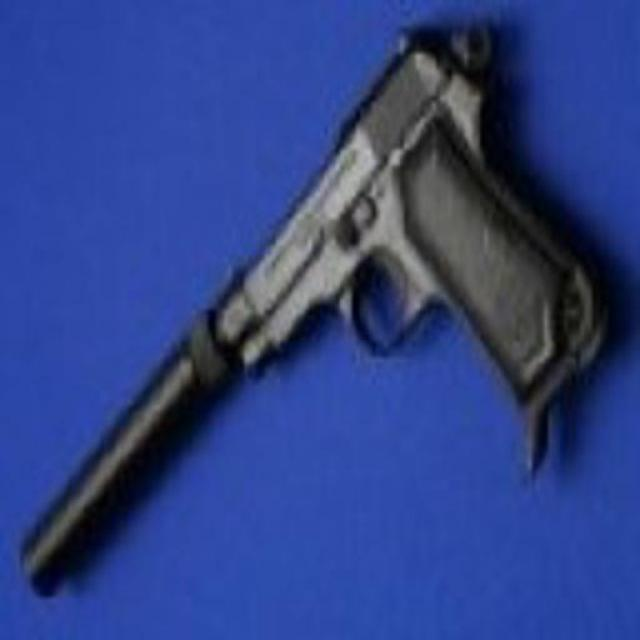pistol: (20, 15, 620, 602)
